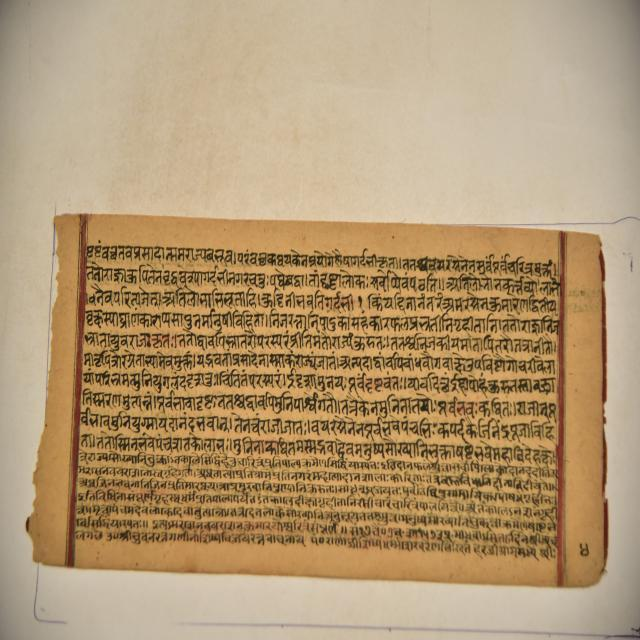text_paragraph: (31, 211, 604, 578)
